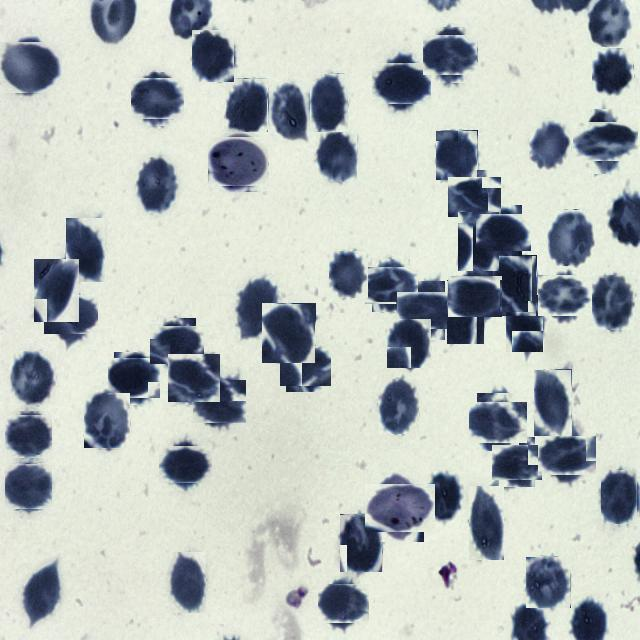red blood cell: (1, 38, 58, 96), (262, 303, 316, 363), (34, 258, 80, 322), (547, 209, 596, 266), (579, 116, 631, 168), (492, 255, 536, 316), (168, 353, 220, 404), (469, 486, 504, 560), (590, 274, 636, 330), (376, 58, 426, 109), (534, 369, 572, 436), (84, 394, 130, 449), (458, 211, 500, 271), (236, 280, 280, 337), (269, 83, 310, 144), (473, 397, 523, 447), (66, 218, 105, 282), (340, 514, 383, 572), (10, 351, 56, 405), (447, 280, 485, 344), (136, 157, 179, 213), (542, 431, 592, 479), (378, 378, 420, 434), (402, 286, 450, 335), (526, 556, 571, 608), (22, 564, 62, 622), (427, 32, 475, 80), (134, 75, 182, 123), (195, 378, 243, 426), (541, 271, 589, 319), (451, 272, 499, 320), (310, 73, 349, 132), (192, 29, 235, 82), (226, 78, 268, 132), (387, 318, 432, 368), (528, 119, 572, 170), (48, 291, 95, 338), (506, 294, 544, 352), (170, 552, 206, 613), (6, 464, 52, 511), (111, 355, 157, 402), (452, 173, 498, 220), (153, 322, 200, 368), (368, 262, 414, 308), (162, 442, 208, 488), (282, 343, 328, 389), (480, 210, 526, 256), (436, 130, 478, 180), (320, 581, 366, 626), (592, 47, 634, 96), (316, 132, 357, 182), (601, 469, 638, 524), (6, 412, 51, 457), (329, 251, 368, 298), (496, 441, 538, 484), (426, 473, 462, 523)
ring: (370, 478, 430, 538), (210, 134, 266, 189)
